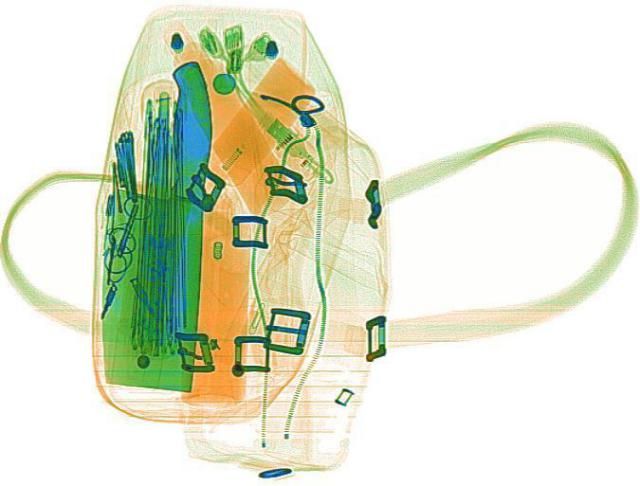Knife: (96, 58, 214, 390)
